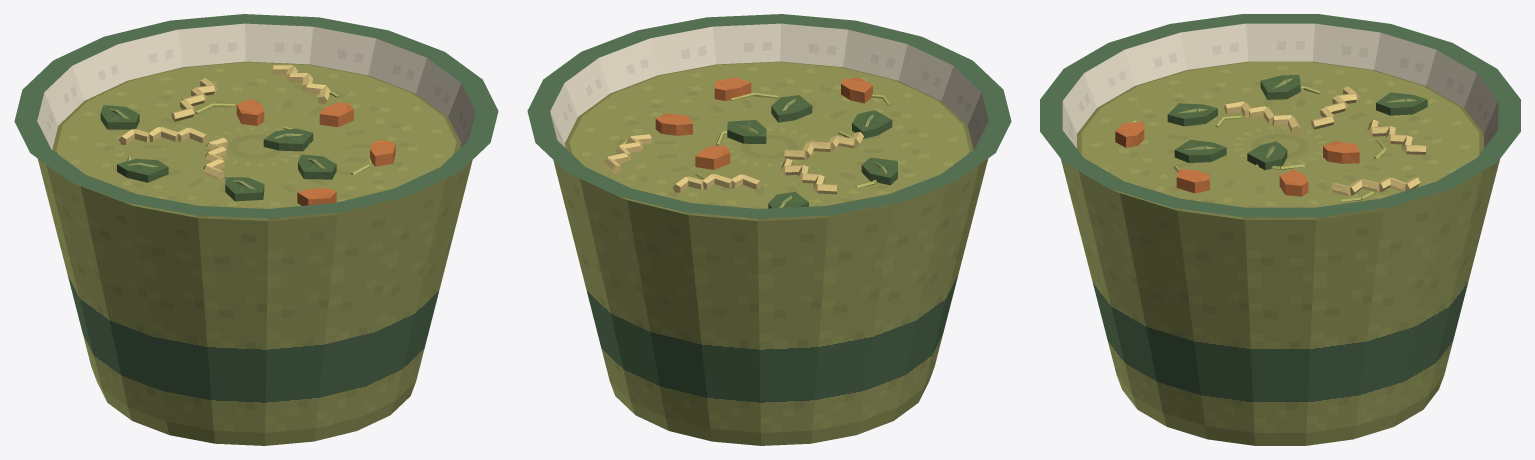
File: soup_instant_vegetable_prepared.glb
The picture shows the model from 3 angles, left to right: view 1: azimuth 30°, elevation 25°; view 2: azimuth 150°, elevation 25°; view 3: azimuth 270°, elevation 25°; orthographic projection.
Visible parts, largest first — view 1: block_tapered instant soup cup, block_soup surface, block_folded greens (×5), block_carrot piece (×4), block_shaded liquid meniscus; view 2: block_tapered instant soup cup, block_soup surface, block_folded greens (×4), block_carrot piece (×4), block_shaded liquid meniscus; view 3: block_tapered instant soup cup, block_soup surface, block_folded greens (×5), block_carrot piece (×4), block_shaded liquid meniscus.
Boxes of the visible parts, left/top/right/bottom form: block_tapered instant soup cup: left=14, top=14, right=498, bottom=445; block_soup surface: left=56, top=62, right=456, bottom=208; block_folded greens (×5): left=100, top=105, right=336, bottom=201; block_carrot piece (×4): left=236, top=98, right=395, bottom=205; block_shaded liquid meniscus: left=52, top=61, right=461, bottom=153; block_tapered instant soup cup: left=527, top=14, right=1011, bottom=445; block_soup surface: left=569, top=62, right=969, bottom=208; block_folded greens (×4): left=727, top=95, right=897, bottom=185; block_carrot piece (×4): left=655, top=77, right=872, bottom=169; block_shaded liquid meniscus: left=564, top=61, right=973, bottom=153; block_tapered instant soup cup: left=1040, top=14, right=1520, bottom=445; block_soup surface: left=1081, top=62, right=1479, bottom=207; block_folded greens (×5): left=1167, top=74, right=1427, bottom=170; block_carrot piece (×4): left=1115, top=122, right=1359, bottom=196; block_shaded liquid meniscus: left=1077, top=61, right=1483, bottom=154.
Size of the model in its own units: 0.1003 by 0.0606 by 0.1003.
1 material, 1 textured.
